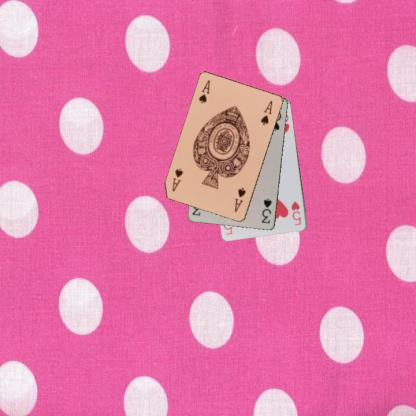3s: (259, 196, 273, 225)
5h: (289, 199, 302, 226)
As: (232, 185, 247, 214), (196, 78, 212, 104)
